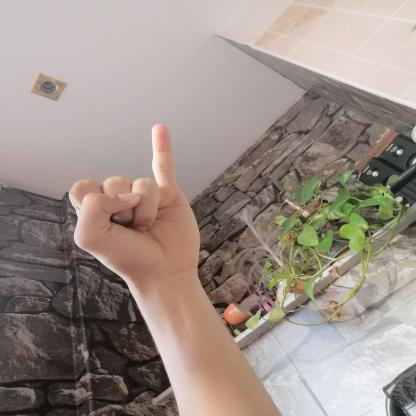MEEM: (50, 111, 212, 291)
